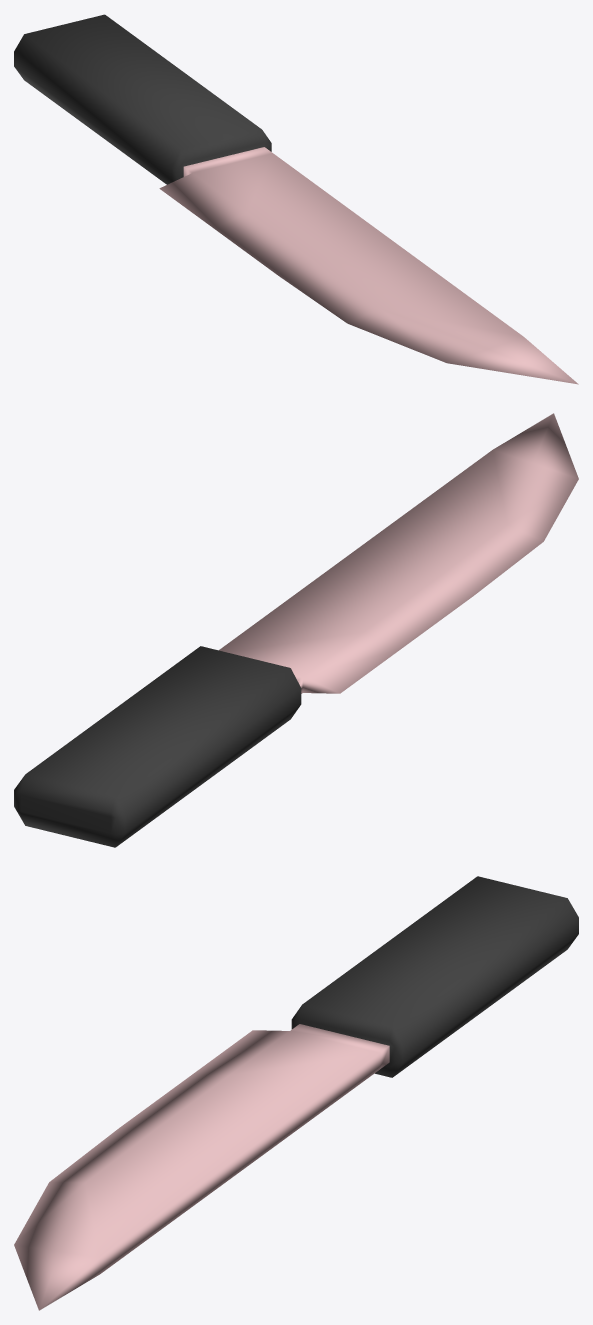
File: knife_1.fbx
The picture shows the model from 3 angles, top to bottom: view 1: azimuth 30°, elevation 25°; view 2: azimuth 150°, elevation 25°; view 3: azimuth 330°, elevation 25°; orthographic projection. The views are drawn at different scales.
Parts seen in each view (by area): view 1: knife_1; view 2: knife_1; view 3: knife_1.
Boxes of the visible parts, x1,y1,x2,y2 form: knife_1: [14, 14, 578, 384]; knife_1: [14, 413, 578, 847]; knife_1: [14, 876, 578, 1310].
Bounding box in the file's own units: 0.0376 × 0.0134 × 0.2522.
